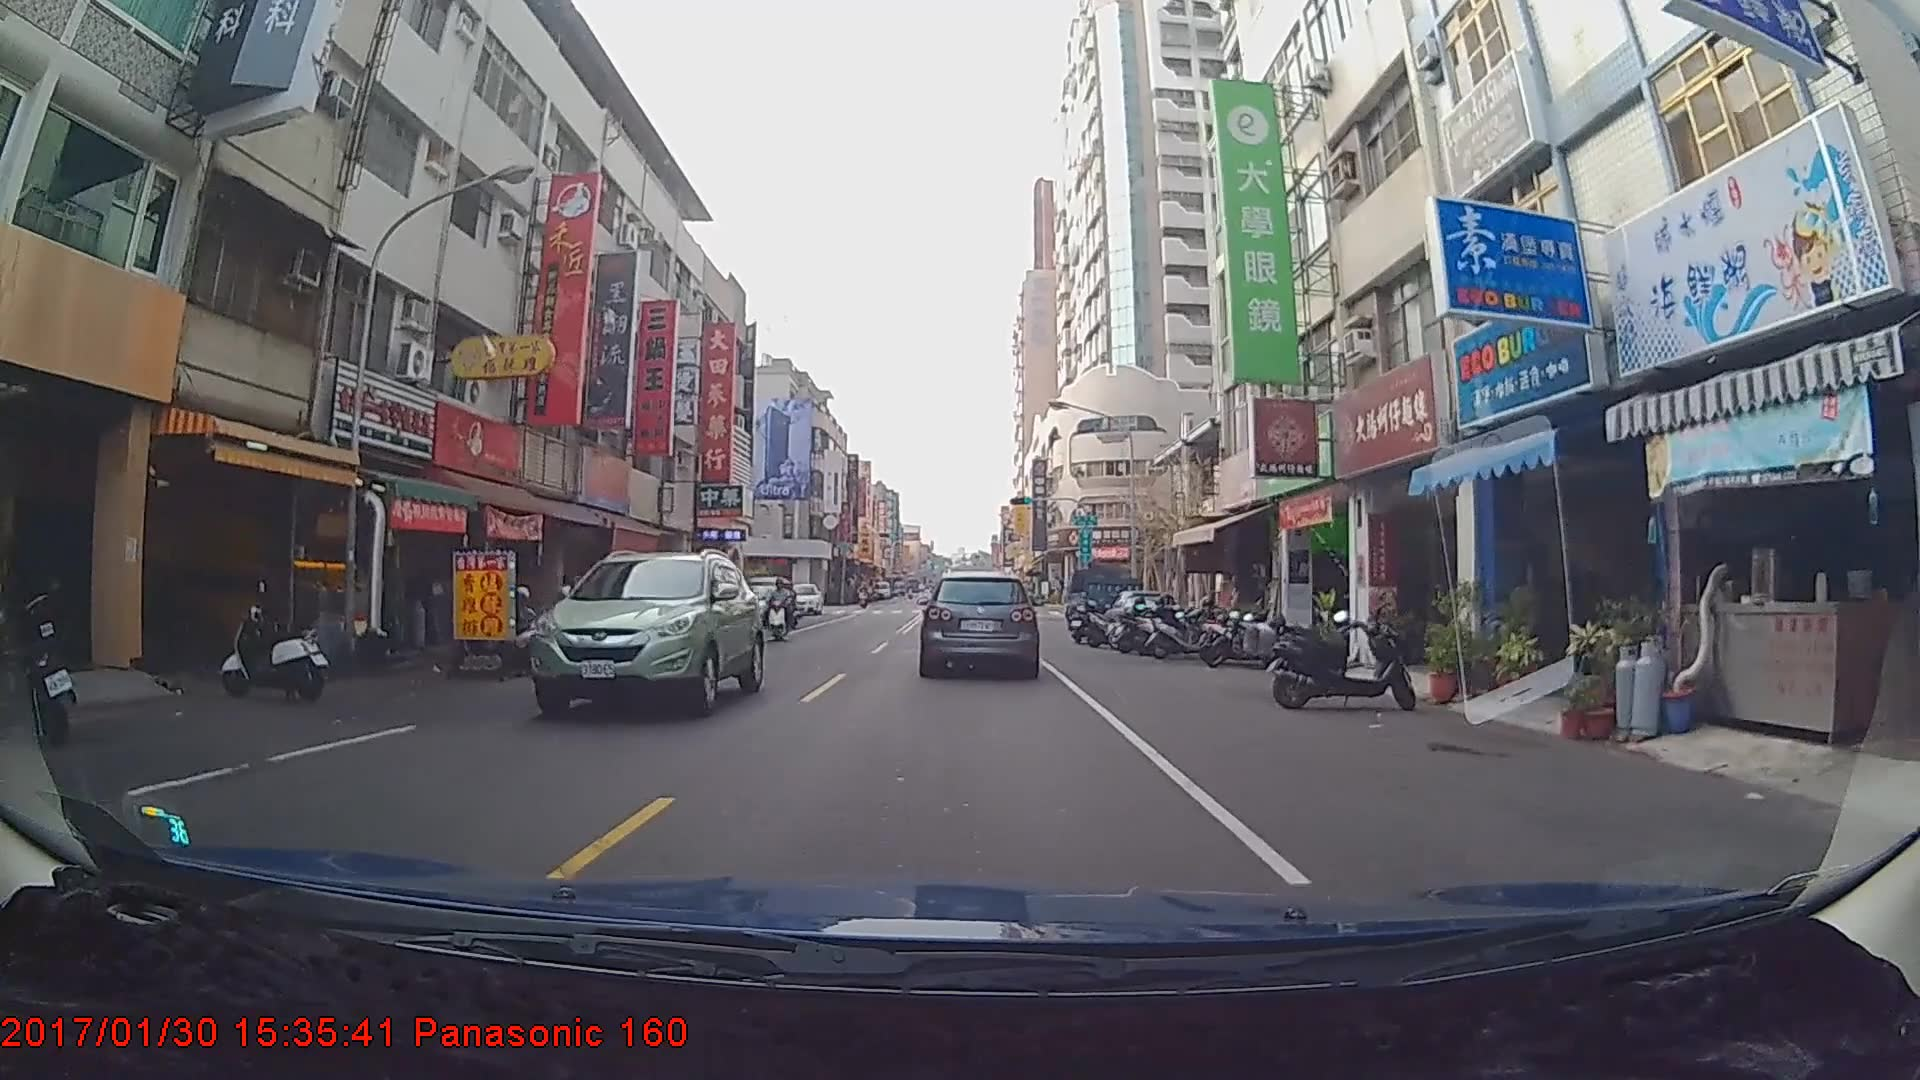vehicle: (527, 547, 764, 717), (922, 570, 1036, 675), (1065, 566, 1147, 633), (782, 583, 822, 616)
